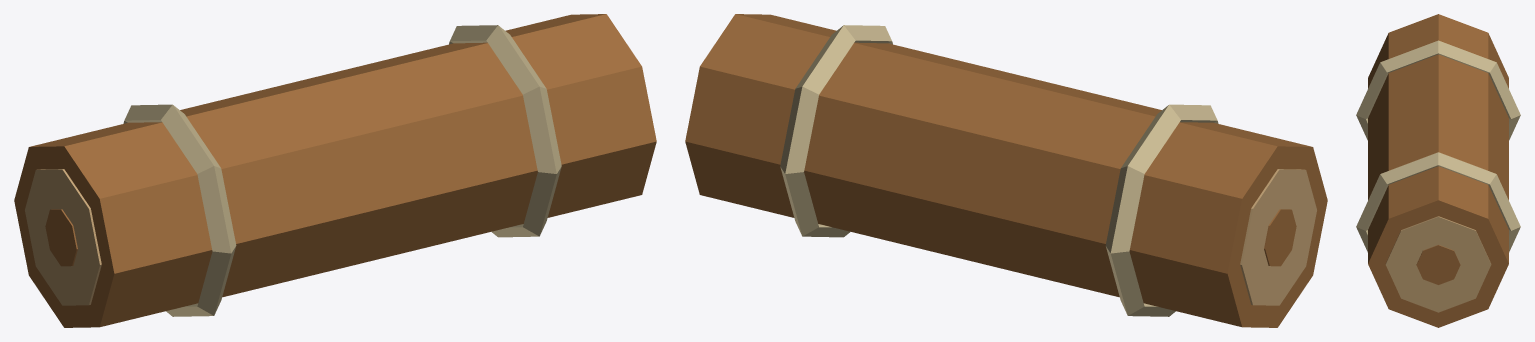
Rendered from raft_log.glb.
3 renders of one model, left to right at view 1: azimuth 30°, elevation 25°; view 2: azimuth 150°, elevation 25°; view 3: azimuth 270°, elevation 25°, orthographic. The views are drawn at different scales.
Parts seen in each view (by area): view 1: log; view 2: log; view 3: log.
Boxes of the visible parts, x1,y1,x2,y2 form: log: (14,14,656,327); log: (685,14,1327,327); log: (1356,14,1520,327).
Size of the model in its own units: 1.01 by 0.374 by 0.374.
